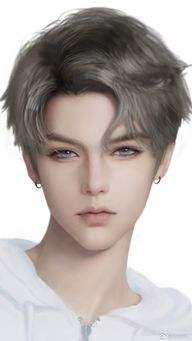person: (2, 16, 169, 290)
